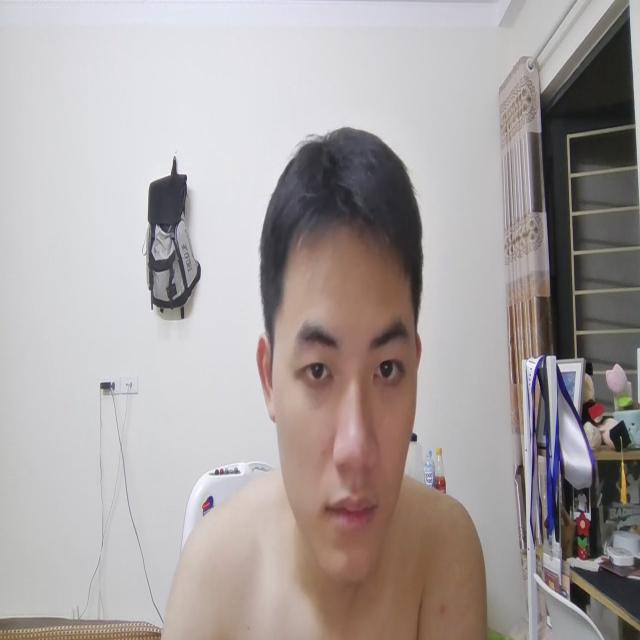student: (176, 126, 486, 640)
